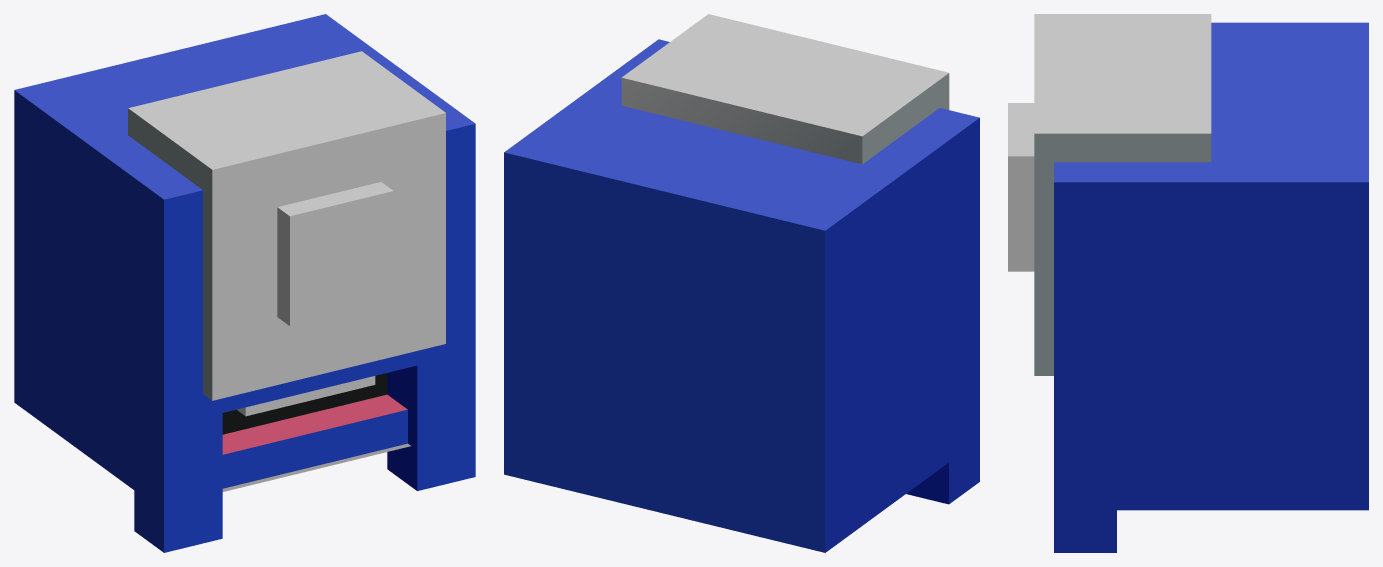
The model's file is EN_SneakyBi_Blue.fbx.
3 renders of one model, left to right at view 1: azimuth 30°, elevation 25°; view 2: azimuth 150°, elevation 25°; view 3: azimuth 270°, elevation 25°, orthographic. The views are drawn at different scales.
Parts seen in each view (by area): view 1: Body, Eye, Pupil, Mouth, Shadow; view 2: Body, Eye; view 3: Body, Eye, Pupil.
Part boxes in pixels (box(x1,y1,x2,y2)): Body: box(14, 14, 475, 552); Eye: box(128, 51, 445, 400); Pupil: box(277, 182, 393, 325); Mouth: box(222, 394, 407, 488); Shadow: box(222, 443, 410, 491); Body: box(504, 39, 979, 552); Eye: box(621, 14, 949, 164); Body: box(1054, 22, 1368, 552); Eye: box(1034, 14, 1211, 375); Pupil: box(1008, 103, 1034, 271).
Size of the model in its own units: 48 by 56 by 45.84.
